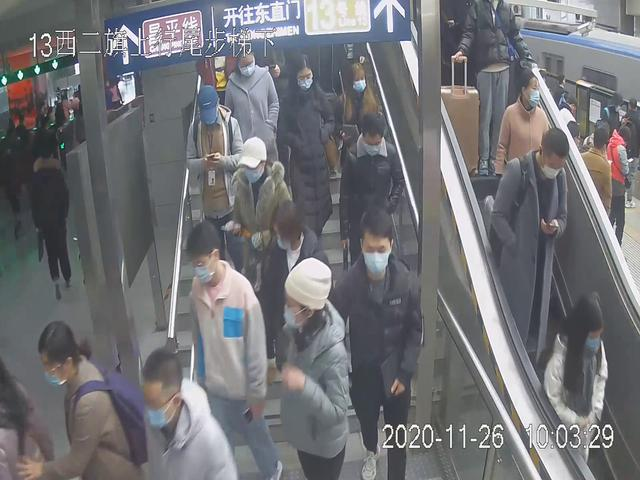person: (184, 214, 285, 480), (326, 209, 425, 480), (492, 124, 572, 400), (276, 256, 353, 480), (455, 1, 536, 185), (275, 52, 339, 274), (337, 110, 405, 308), (538, 290, 608, 480), (222, 41, 285, 210), (187, 83, 243, 264), (493, 63, 553, 224)
